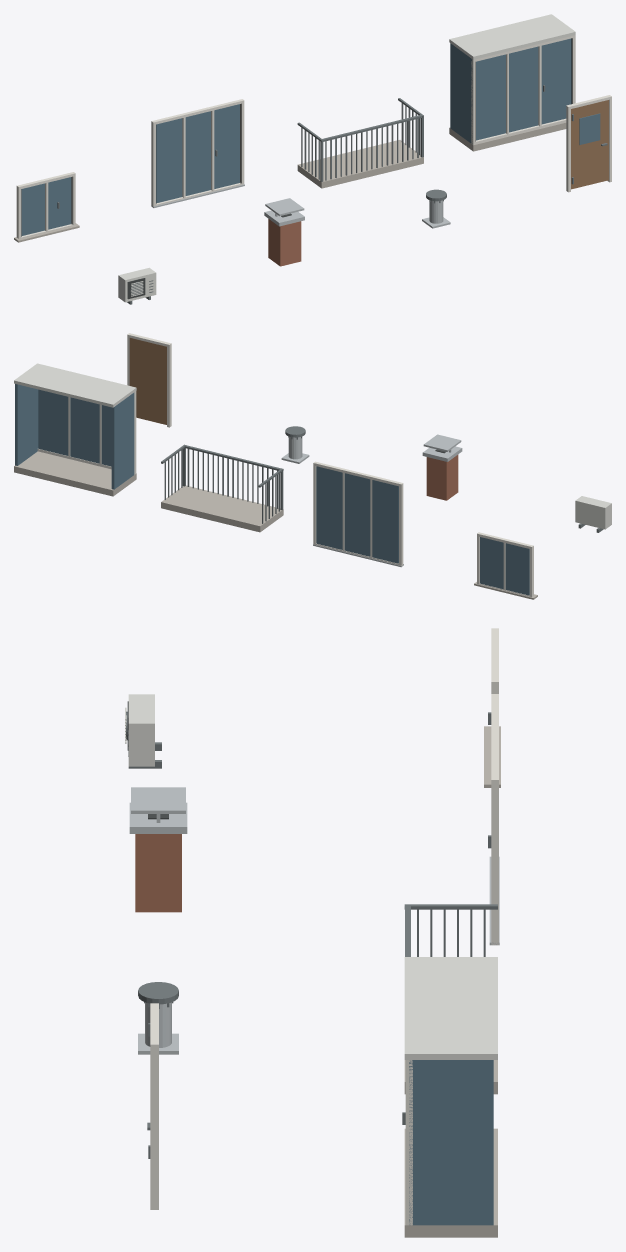
File: gallery_lod0.gltf
The picture shows the model from 3 angles, top to bottom: view 1: azimuth 30°, elevation 25°; view 2: azimuth 150°, elevation 25°; view 3: azimuth 270°, elevation 25°; orthographic projection. The views are drawn at different scales.
Visible parts, largest first — view 1: glazed_balcony_v2_lod0, sliding_door_v2_lod0, open_balcony_v2_lod0, entrance_door_v2_lod0, casement_window_v2_lod0, chimney_v2_lod0, ac_unit_v2_lod0, roof_vent_v2_lod0; view 2: glazed_balcony_v2_lod0, sliding_door_v2_lod0, open_balcony_v2_lod0, entrance_door_v2_lod0, casement_window_v2_lod0, chimney_v2_lod0, ac_unit_v2_lod0, roof_vent_v2_lod0; view 3: glazed_balcony_v2_lod0, chimney_v2_lod0, sliding_door_v2_lod0, ac_unit_v2_lod0, roof_vent_v2_lod0, entrance_door_v2_lod0, open_balcony_v2_lod0, casement_window_v2_lod0.
Part boxes in pixels (x1,y1,x2,y2): glazed_balcony_v2_lod0: (449, 14, 575, 151); sliding_door_v2_lod0: (151, 99, 244, 207); open_balcony_v2_lod0: (297, 98, 423, 188); entrance_door_v2_lod0: (566, 95, 611, 192); casement_window_v2_lod0: (14, 172, 79, 242); chimney_v2_lod0: (264, 198, 304, 266); ac_unit_v2_lod0: (118, 267, 156, 304); roof_vent_v2_lod0: (422, 189, 450, 228); glazed_balcony_v2_lod0: (14, 363, 136, 496); sliding_door_v2_lod0: (313, 461, 403, 567); open_balcony_v2_lod0: (161, 444, 283, 532); entrance_door_v2_lod0: (127, 333, 171, 427); casement_window_v2_lod0: (474, 532, 537, 599); chimney_v2_lod0: (422, 434, 462, 500); ac_unit_v2_lod0: (575, 496, 611, 532); roof_vent_v2_lod0: (281, 426, 309, 463); glazed_balcony_v2_lod0: (402, 957, 497, 1237); chimney_v2_lod0: (129, 787, 187, 912); sliding_door_v2_lod0: (488, 694, 499, 945); ac_unit_v2_lod0: (125, 694, 161, 768); roof_vent_v2_lod0: (138, 982, 178, 1054); entrance_door_v2_lod0: (147, 1003, 158, 1209); open_balcony_v2_lod0: (404, 904, 497, 1094); casement_window_v2_lod0: (484, 628, 500, 787).
Bounding box in the file's own units: 14.16 × 2.39 × 4.43.
